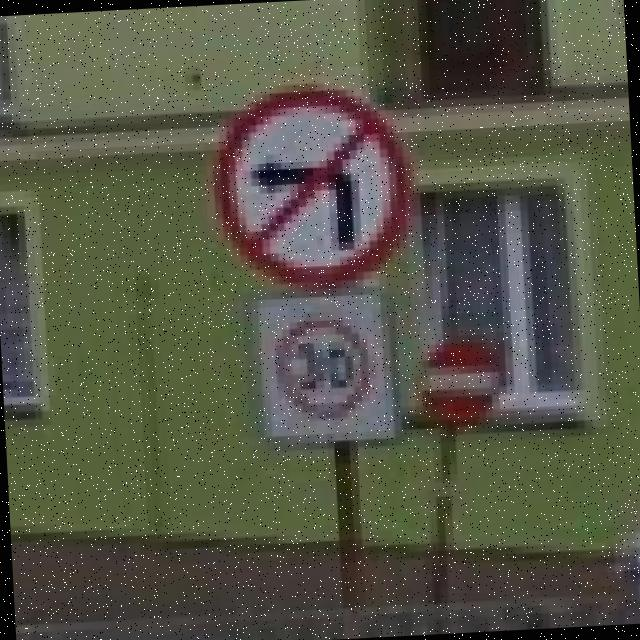Zakaz wjazdu: (416, 334, 505, 428)
